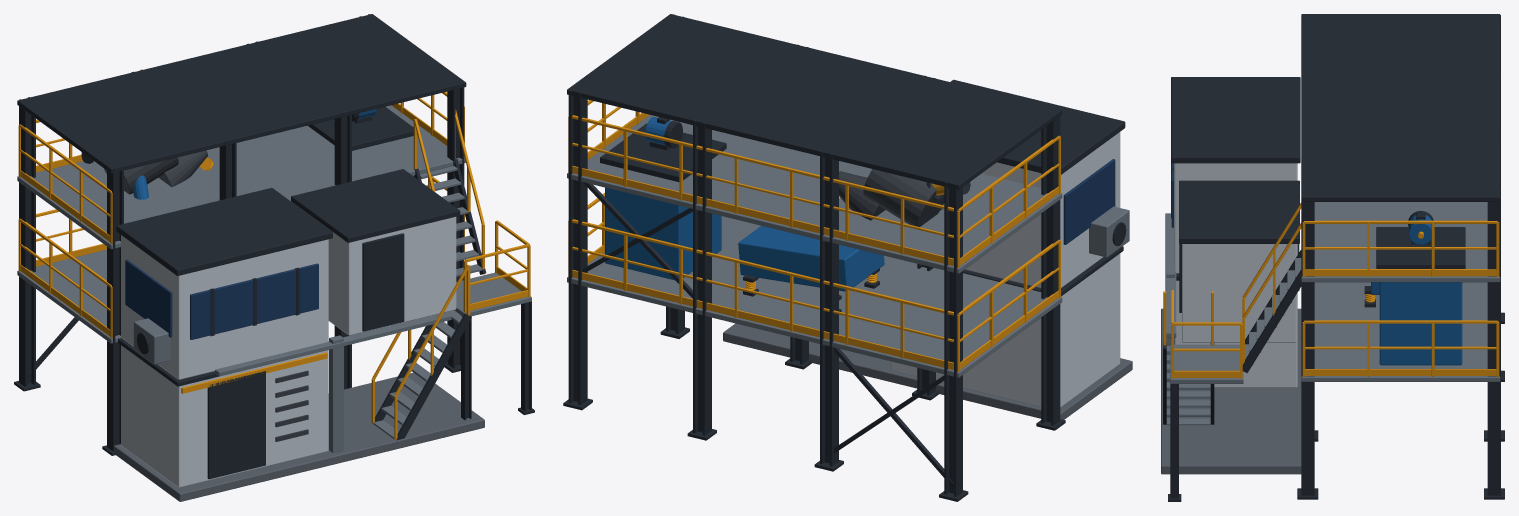
Rendered from wash_plant_module_wp301.glb.
The picture shows the model from 3 angles, left to right: view 1: azimuth 30°, elevation 25°; view 2: azimuth 150°, elevation 25°; view 3: azimuth 270°, elevation 25°; orthographic projection. The views are drawn at different scales.
Parts seen in each view (by area): view 1: WP301_RoofBeam_Deck, WP301_Deck40_Deck, WP301_MCC_Wash, WP301_ControlRoom, WP301_CtrlRoof, WP301_AnnexPlinth, WP301_MCC_Over, WP301_MCC_OverRoof, WP301_MCC_DoorFrame, WP301_CtrlWindowFront, WP301_MCC_OverDoor, WP301_Deck22_Deck (+28 smaller); view 2: WP301_RoofBeam_Deck, WP301_Deck22_Deck, WP301_Deck40_Deck, WP301_MCC_Wash, WP301_ControlRoom, WP301_EastMixingBox, WP301_AnnexPlinth, WP301_DewaterScreen, WP301_CtrlRoof, WP301_Deck22_RailN_ToeBoard, WP301_Deck40_RailN_ToeBoard, WP301_MainCol_1.1_2.8_FlangeF (+29 smaller); view 3: WP301_RoofBeam_Deck, WP301_CtrlRoof, WP301_AnnexPlinth, WP301_MCC_Over, WP301_Deck22_Deck, WP301_Deck40_Deck, WP301_MCC_OverRoof, WP301_EastMixingBox, WP301_MainCol_3.4_2.8_FlangeB, WP301_MainCol_3.4_-0.3_FlangeB, WP301_MixBoxRim, WP301_MCC_Wash (+15 smaller).
Boxes of the visible parts, <box> form: WP301_RoofBeam_Deck: <box>17,14,466,173</box>; WP301_Deck40_Deck: <box>17,105,465,249</box>; WP301_MCC_Wash: <box>121,345,328,487</box>; WP301_ControlRoom: <box>121,235,328,379</box>; WP301_CtrlRoof: <box>116,188,332,275</box>; WP301_AnnexPlinth: <box>114,372,484,501</box>; WP301_MCC_Over: <box>296,205,456,335</box>; WP301_MCC_OverRoof: <box>291,169,460,242</box>; WP301_MCC_DoorFrame: <box>207,371,265,479</box>; WP301_CtrlWindowFront: <box>190,263,318,339</box>; WP301_MCC_OverDoor: <box>362,233,404,331</box>; WP301_Deck22_Deck: <box>17,249,460,343</box>; WP301_RoofBeam_Deck: <box>567,14,1062,189</box>; WP301_Deck22_Deck: <box>567,216,1062,377</box>; WP301_Deck40_Deck: <box>567,115,1062,273</box>; WP301_MCC_Wash: <box>891,253,1120,407</box>; WP301_ControlRoom: <box>965,132,1120,287</box>; WP301_EastMixingBox: <box>605,187,721,280</box>; WP301_AnnexPlinth: <box>723,323,1132,419</box>; WP301_DewaterScreen: <box>738,225,884,291</box>; WP301_CtrlRoof: <box>950,79,1125,174</box>; WP301_Deck22_RailN_ToeBoard: <box>572,270,953,369</box>; WP301_Deck40_RailN_ToeBoard: <box>572,166,953,265</box>; WP301_MainCol_1.1_2.8_FlangeF: <box>702,122,711,435</box>; WP301_RoofBeam_Deck: <box>1301,14,1500,201</box>; WP301_CtrlRoof: <box>1171,77,1300,163</box>; WP301_AnnexPlinth: <box>1161,308,1301,474</box>; WP301_MCC_Over: <box>1182,244,1296,342</box>; WP301_Deck22_Deck: <box>1301,282,1500,381</box>; WP301_Deck40_Deck: <box>1301,202,1500,282</box>; WP301_MCC_OverRoof: <box>1179,180,1299,243</box>; WP301_EastMixingBox: <box>1379,282,1462,365</box>; WP301_MainCol_3.4_2.8_FlangeB: <box>1487,195,1500,495</box>; WP301_MainCol_3.4_-0.3_FlangeB: <box>1301,195,1314,495</box>; WP301_MixBoxRim: <box>1376,227,1465,268</box>; WP301_MCC_Wash: <box>1175,280,1297,387</box>.
Size of the model in its own units: 7.42 by 5.45 by 5.62.
